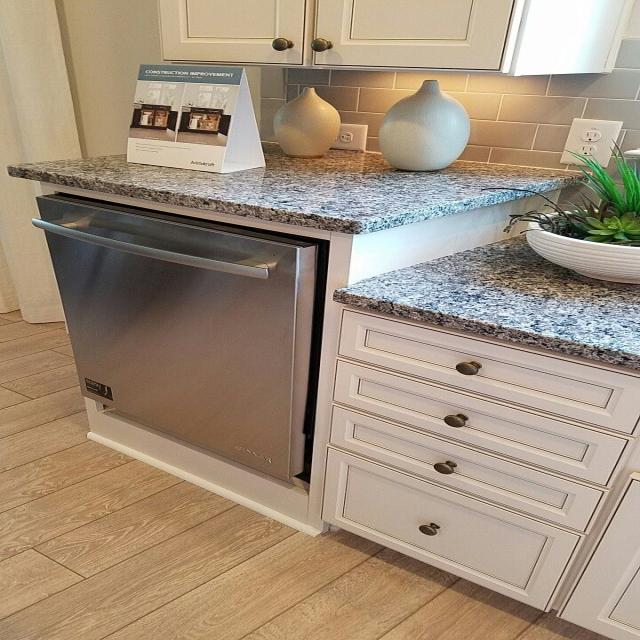dishwasher: (24, 173, 358, 525)
